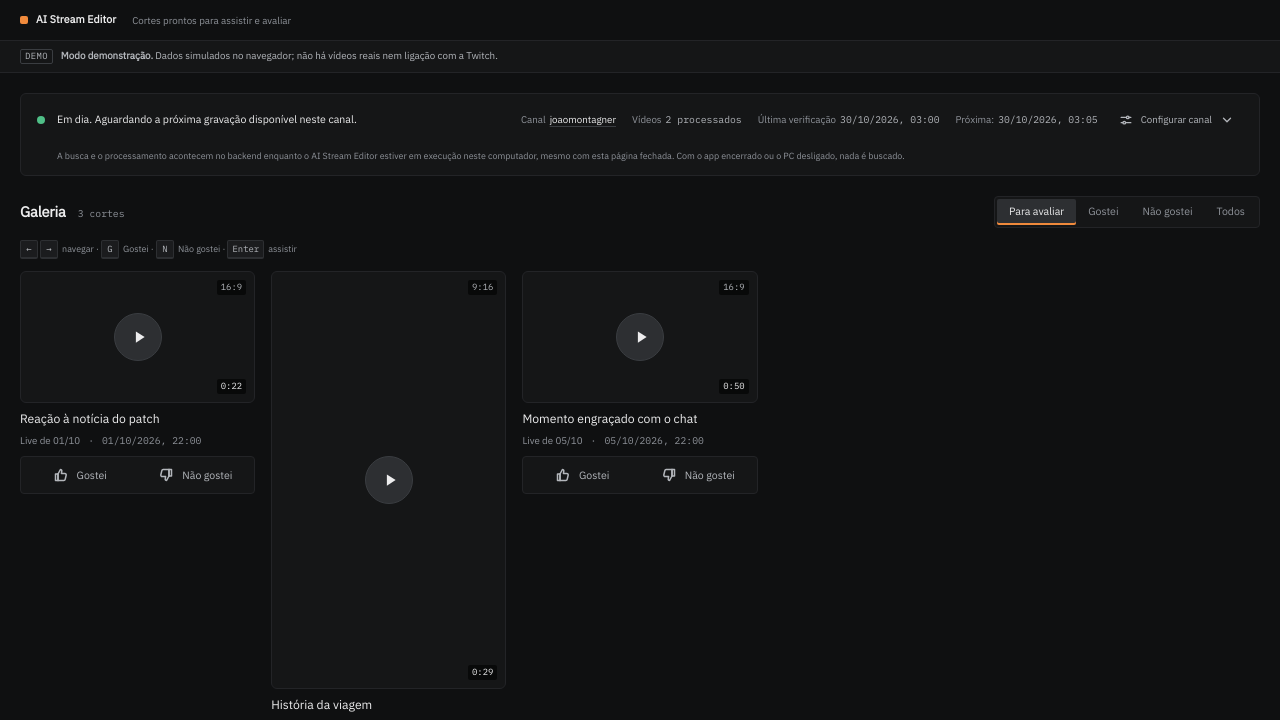
Test: Galeria: cortes e avaliação › cliques repetidos não duplicam a gravação
The image size is (1280, 720).
Step 1. Click the button "Gostei" below "Live de 01/10" → (80, 475), box [23,459,137,491]
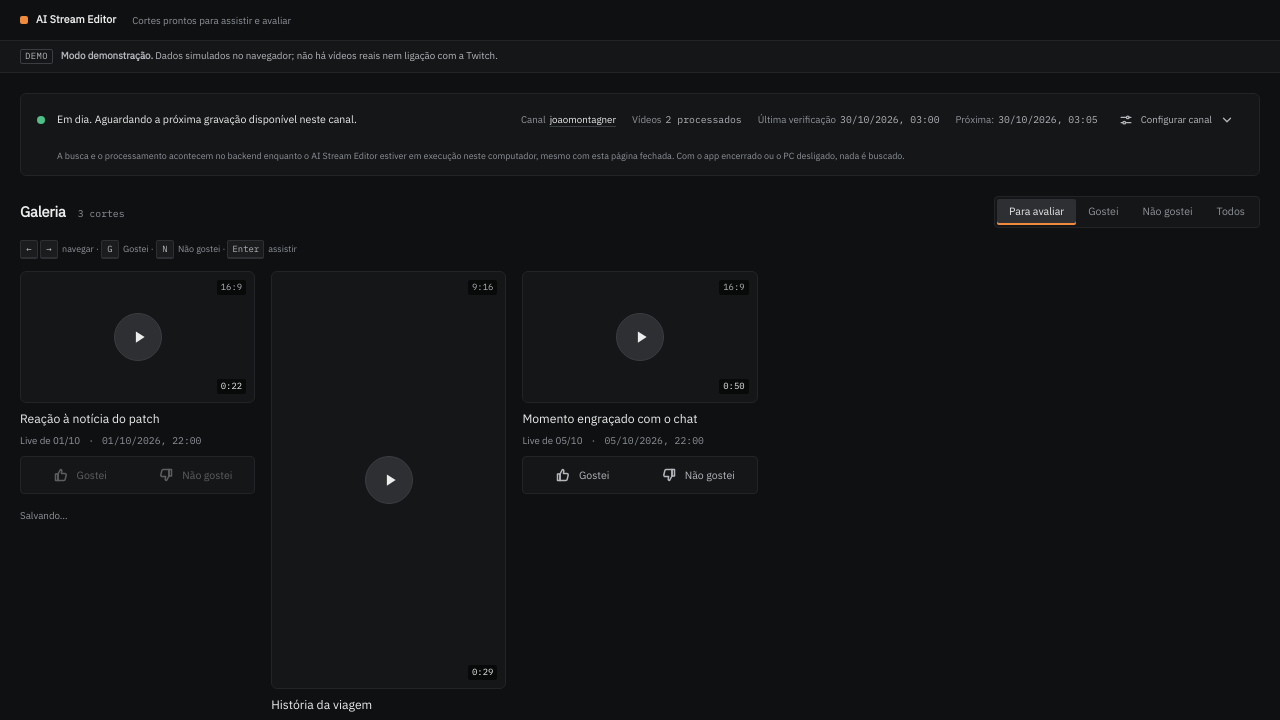
expect the text "Salvando…" is shown: met, box [20,509,68,523]
expect the button "Gostei" below "Live de 01/10" is disabled: met
Step 2. Click the button "Gostei" below "Live de 01/10" → (80, 475), box [23,459,137,491]
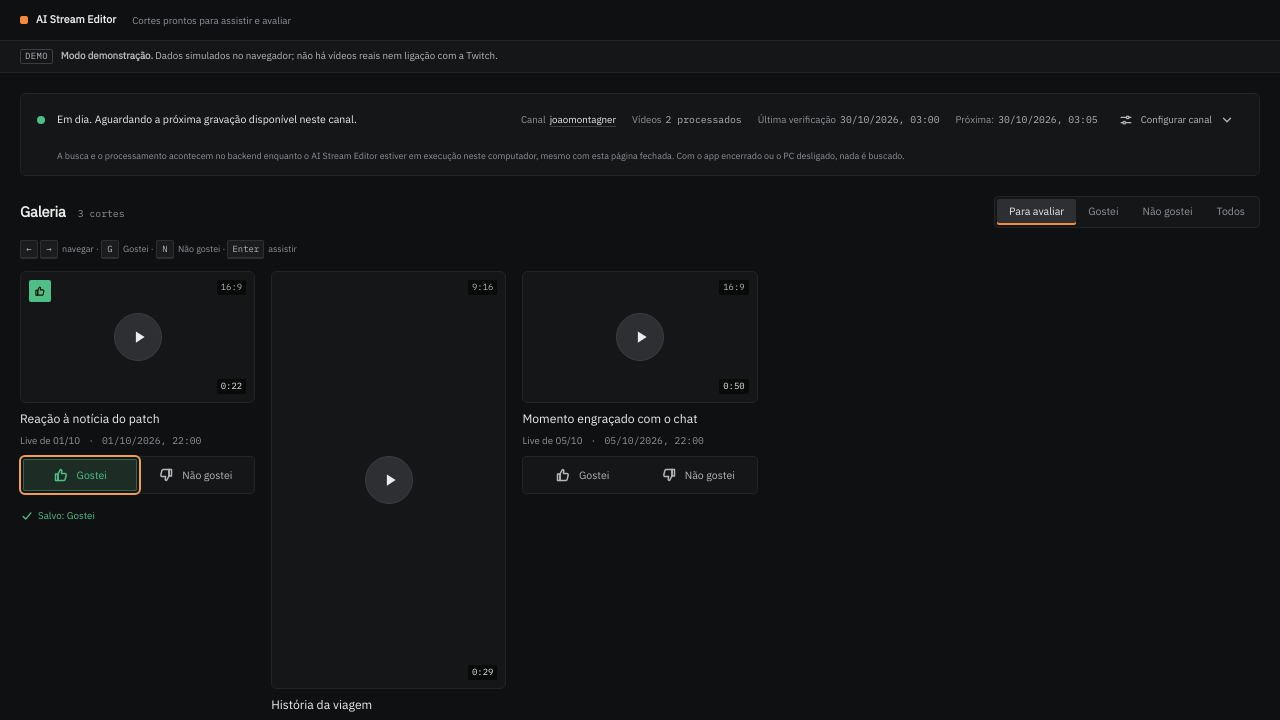
expect the text "Salvo: Gostei" is shown: met, box [20,509,95,523]
